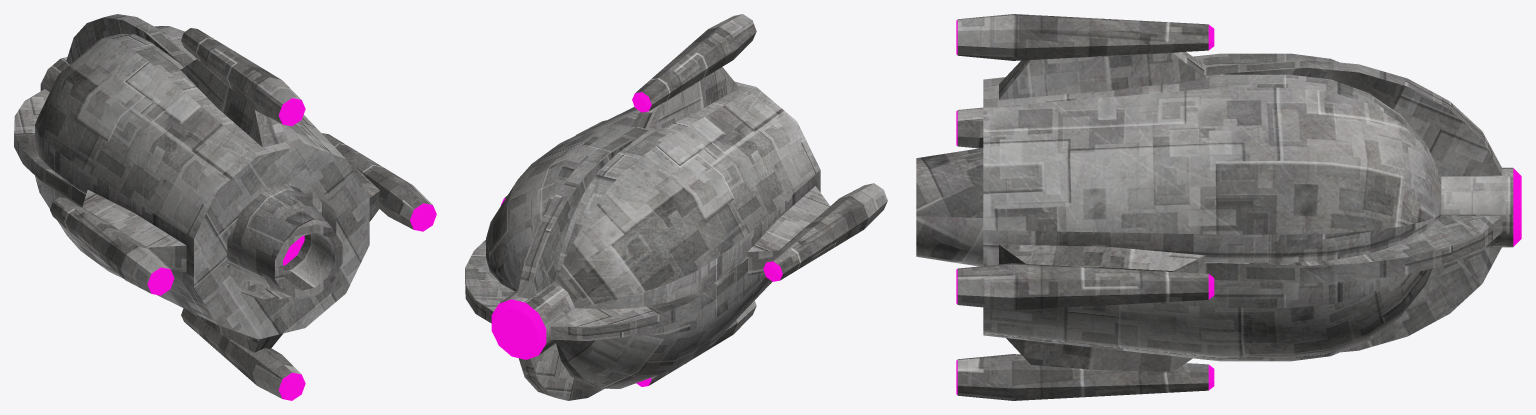
Rendered from ship1.glb.
The picture shows the model from 3 angles, left to right: view 1: azimuth 30°, elevation 25°; view 2: azimuth 150°, elevation 25°; view 3: azimuth 270°, elevation 25°; orthographic projection. The views are drawn at different scales.
Visible parts, largest first — view 1: Sphere; view 2: Sphere; view 3: Sphere.
Boxes of the visible parts, box(x1,y1,x2,y2) form: Sphere: box(14, 14, 436, 400); Sphere: box(465, 14, 887, 400); Sphere: box(916, 14, 1521, 400).
Size of the model in its own units: 2.72 by 2.72 by 3.87.
2 materials, 1 textured.
